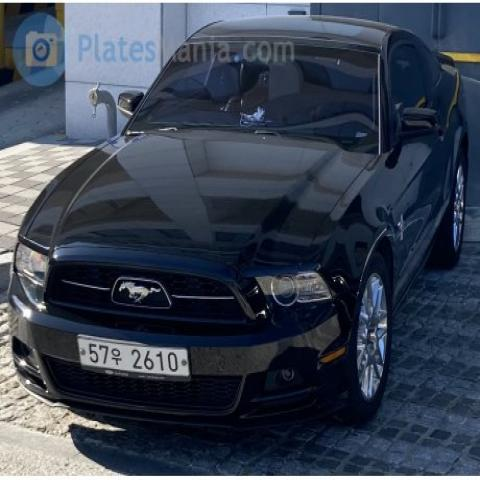LP: (64, 331, 206, 391)
